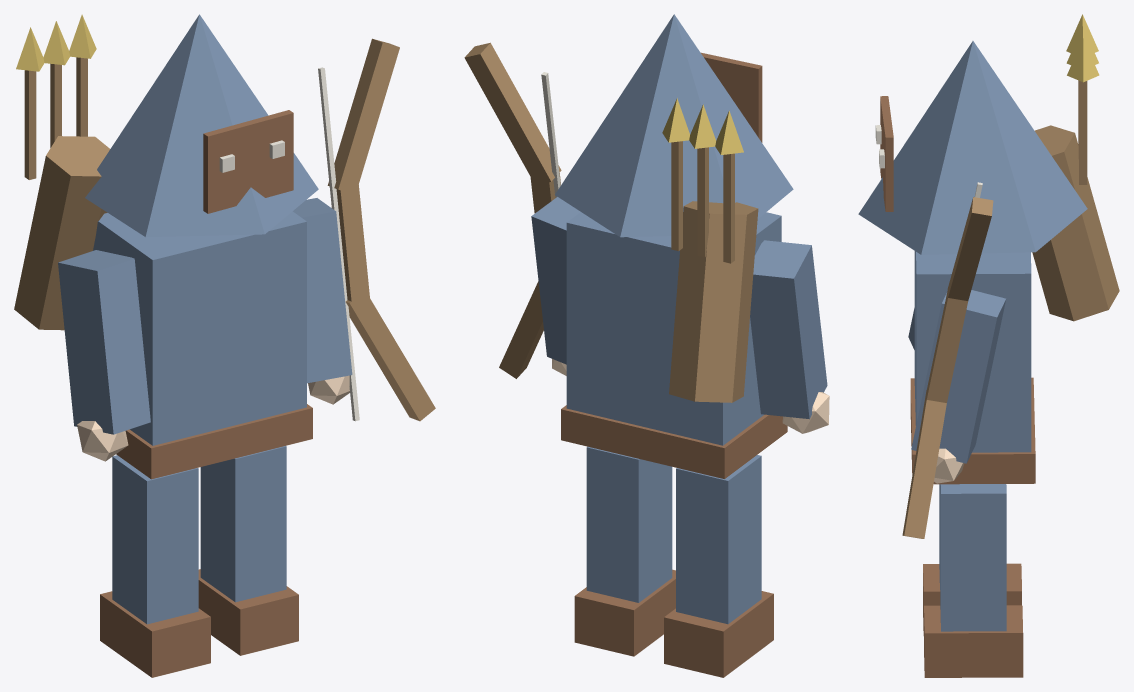
File: npcpose_archer_idle_00.glb
3 renders of one model, left to right at view 1: azimuth 30°, elevation 25°; view 2: azimuth 150°, elevation 25°; view 3: azimuth 270°, elevation 25°, orthographic. The views are drawn at different scales.
Visible parts, largest first — view 1: npcpose; view 2: npcpose; view 3: npcpose.
Boxes of the visible parts, x1,y1,x2,y2 form: npcpose: [14, 14, 435, 677]; npcpose: [464, 14, 829, 677]; npcpose: [858, 14, 1119, 677].
Size of the model in its own units: 0.9098 by 1.62 by 0.6368.
